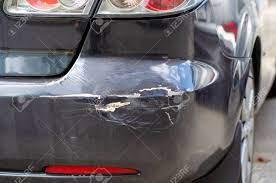rear-bumper-dent: (4, 61, 250, 182)
